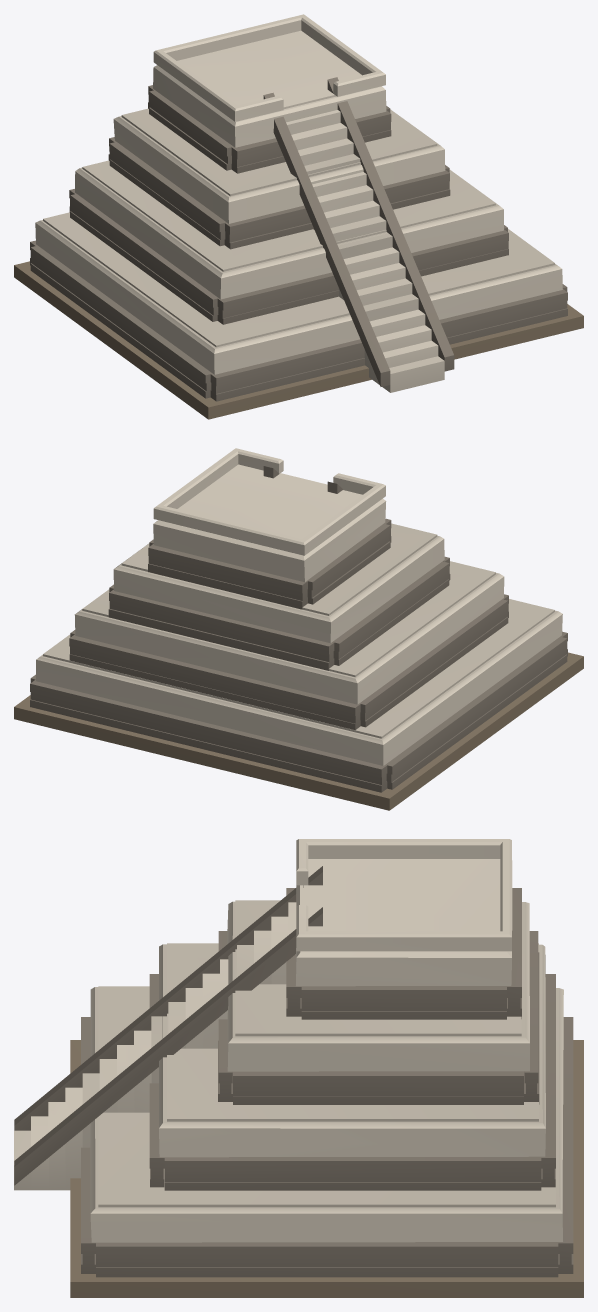
Rendered from caral_pyramid_small_lod0.glb.
The picture shows the model from 3 angles, top to bottom: view 1: azimuth 30°, elevation 25°; view 2: azimuth 150°, elevation 25°; view 3: azimuth 270°, elevation 25°; orthographic projection. The views are drawn at different scales.
Parts seen in each view (by area): view 1: GEO-Arch_pyramid_small_LOD0; view 2: GEO-Arch_pyramid_small_LOD0; view 3: GEO-Arch_pyramid_small_LOD0.
Boxes of the visible parts, x1,y1,x2,y2 form: GEO-Arch_pyramid_small_LOD0: (14,14,583,419); GEO-Arch_pyramid_small_LOD0: (14,448,583,810); GEO-Arch_pyramid_small_LOD0: (14,839,583,1297).
Size of the model in its own units: 19.4 by 10.85 by 19.31.
